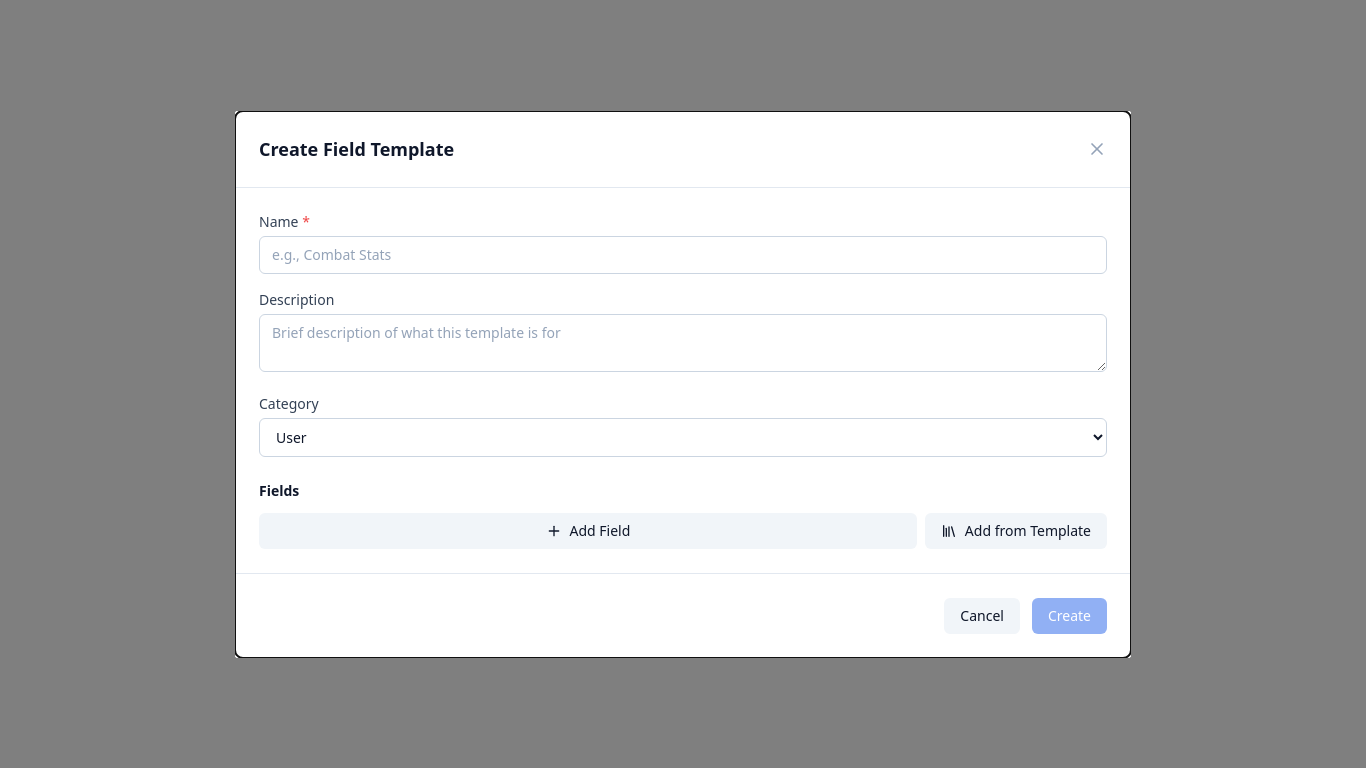
Test: FieldTemplateFormModal - Validation (Issue #210) › should enable submit button when form is valid
The image size is (1366, 768).
Type "Valid Name" into the field labelled "Name *" at {"x": 683, "y": 254}, box 259,236 -> 1107,274
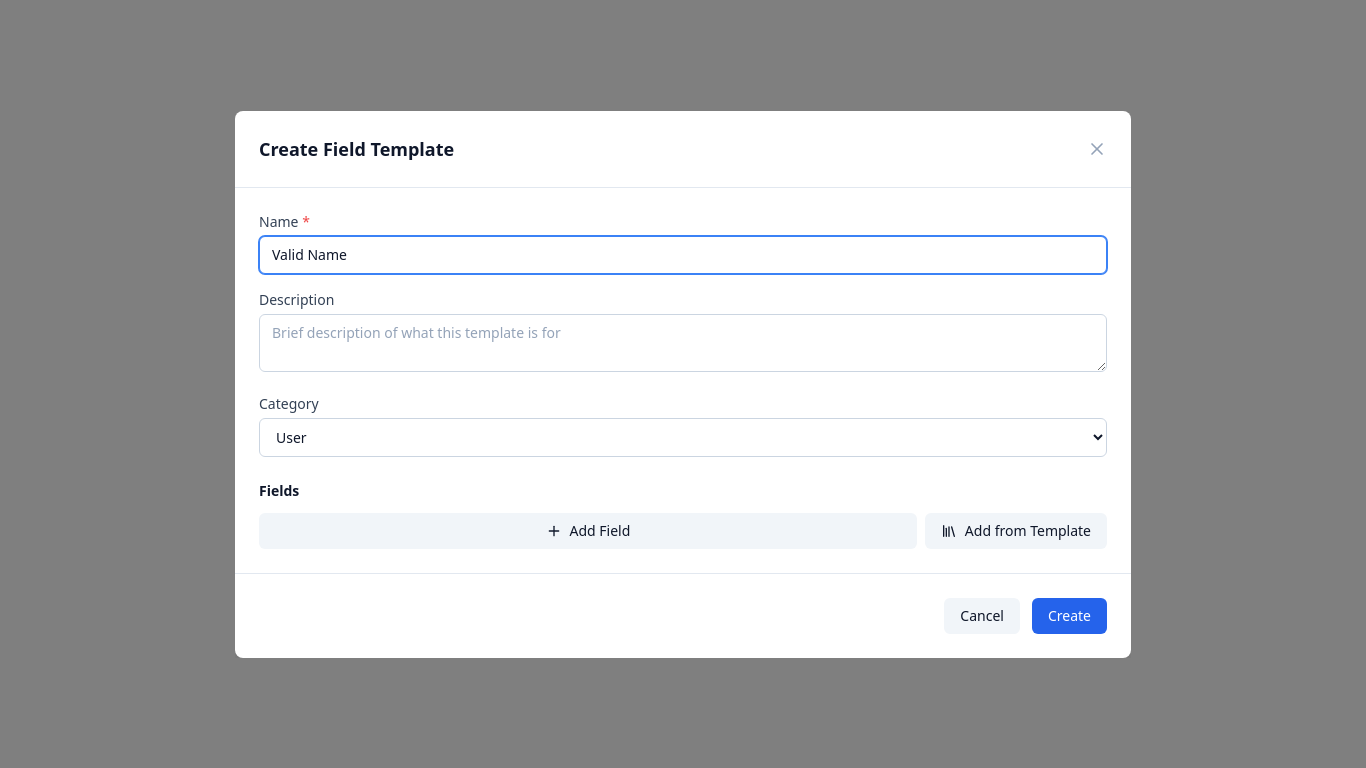
Now the button "Create" is enabled, box 1032,598 -> 1107,634
